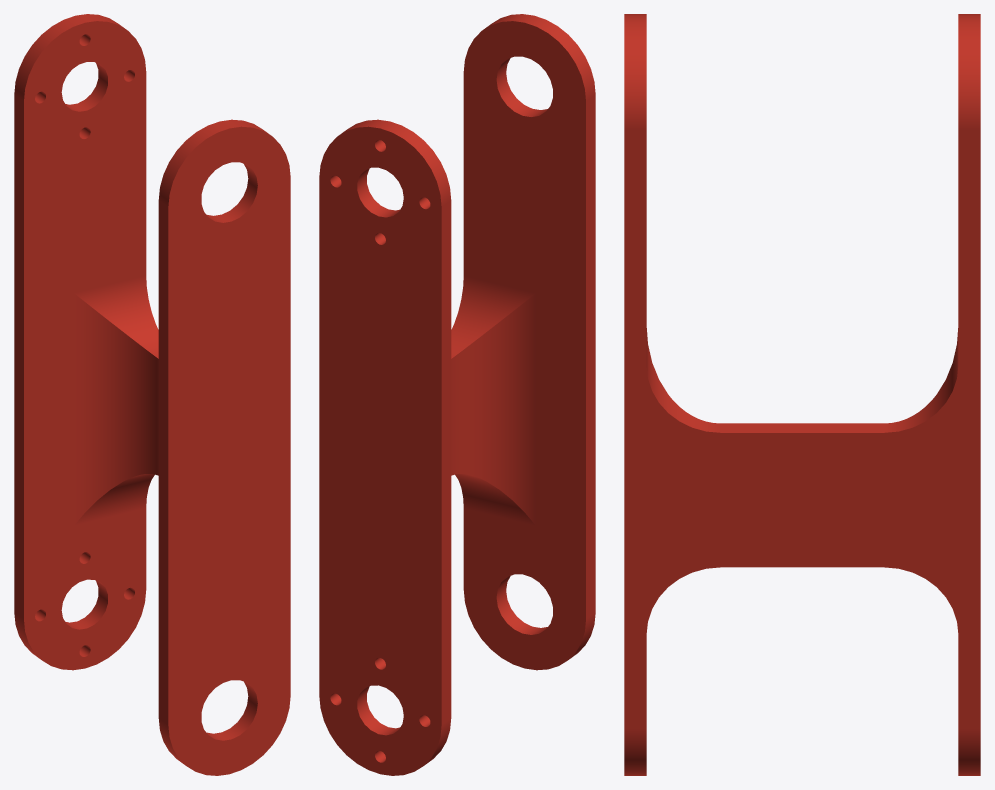
The model's file is left_thigh.dae.
The picture shows the model from 3 angles, left to right: view 1: azimuth 30°, elevation 25°; view 2: azimuth 150°, elevation 25°; view 3: azimuth 270°, elevation 25°; orthographic projection. The views are drawn at different scales.
Visible parts, largest first — view 1: Body2_Paint_-_Metallic_(Red); view 2: Body2_Paint_-_Metallic_(Red); view 3: Body2_Paint_-_Metallic_(Red).
Boxes of the visible parts, left/top/right/bottom form: Body2_Paint_-_Metallic_(Red): left=14, top=14, right=290, bottom=775; Body2_Paint_-_Metallic_(Red): left=319, top=14, right=595, bottom=775; Body2_Paint_-_Metallic_(Red): left=624, top=14, right=980, bottom=775.
Bounding box in the file's own units: 0.022 × 0.048 × 0.111.
